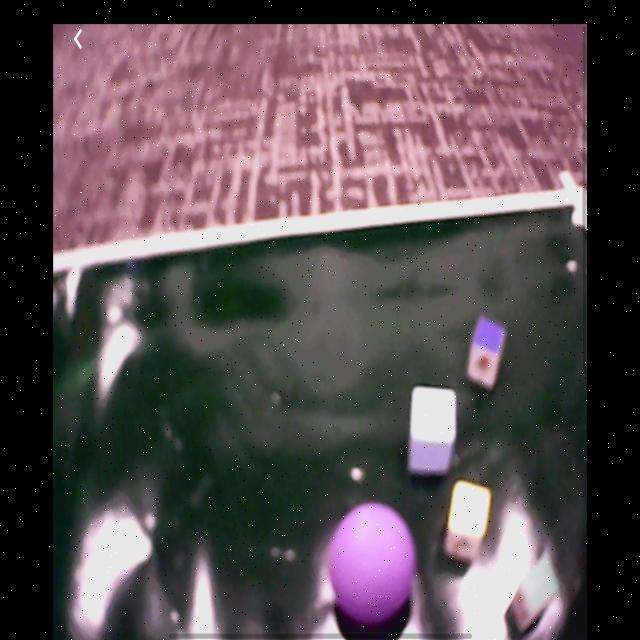ball: (329, 502, 418, 627)
